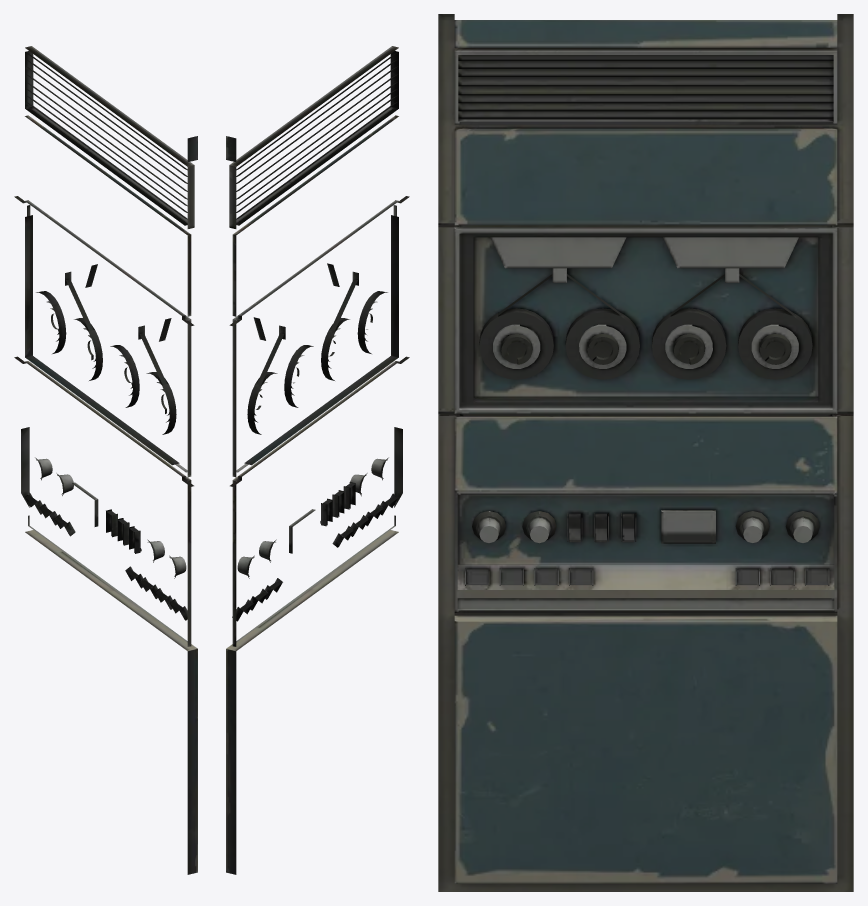
3 views of the same model, side by side, from view 1: azimuth 30°, elevation 25°; view 2: azimuth 150°, elevation 25°; view 3: azimuth 270°, elevation 25° (orthographic). The views are drawn at different scales.
Parts seen in each view (by area): view 1: body0_model0_lod0_mesh0; view 2: body0_model0_lod0_mesh0; view 3: body0_model0_lod0_mesh0.
Part boxes in pixels (x1=…): body0_model0_lod0_mesh0: x1=14, y1=46, x2=197, y2=874; body0_model0_lod0_mesh0: x1=226, y1=46, x2=409, y2=874; body0_model0_lod0_mesh0: x1=438, y1=14, x2=853, y2=891.
Size of the model in its own units: 2.79 by 112 by 47.99.
1 material, 1 textured.
